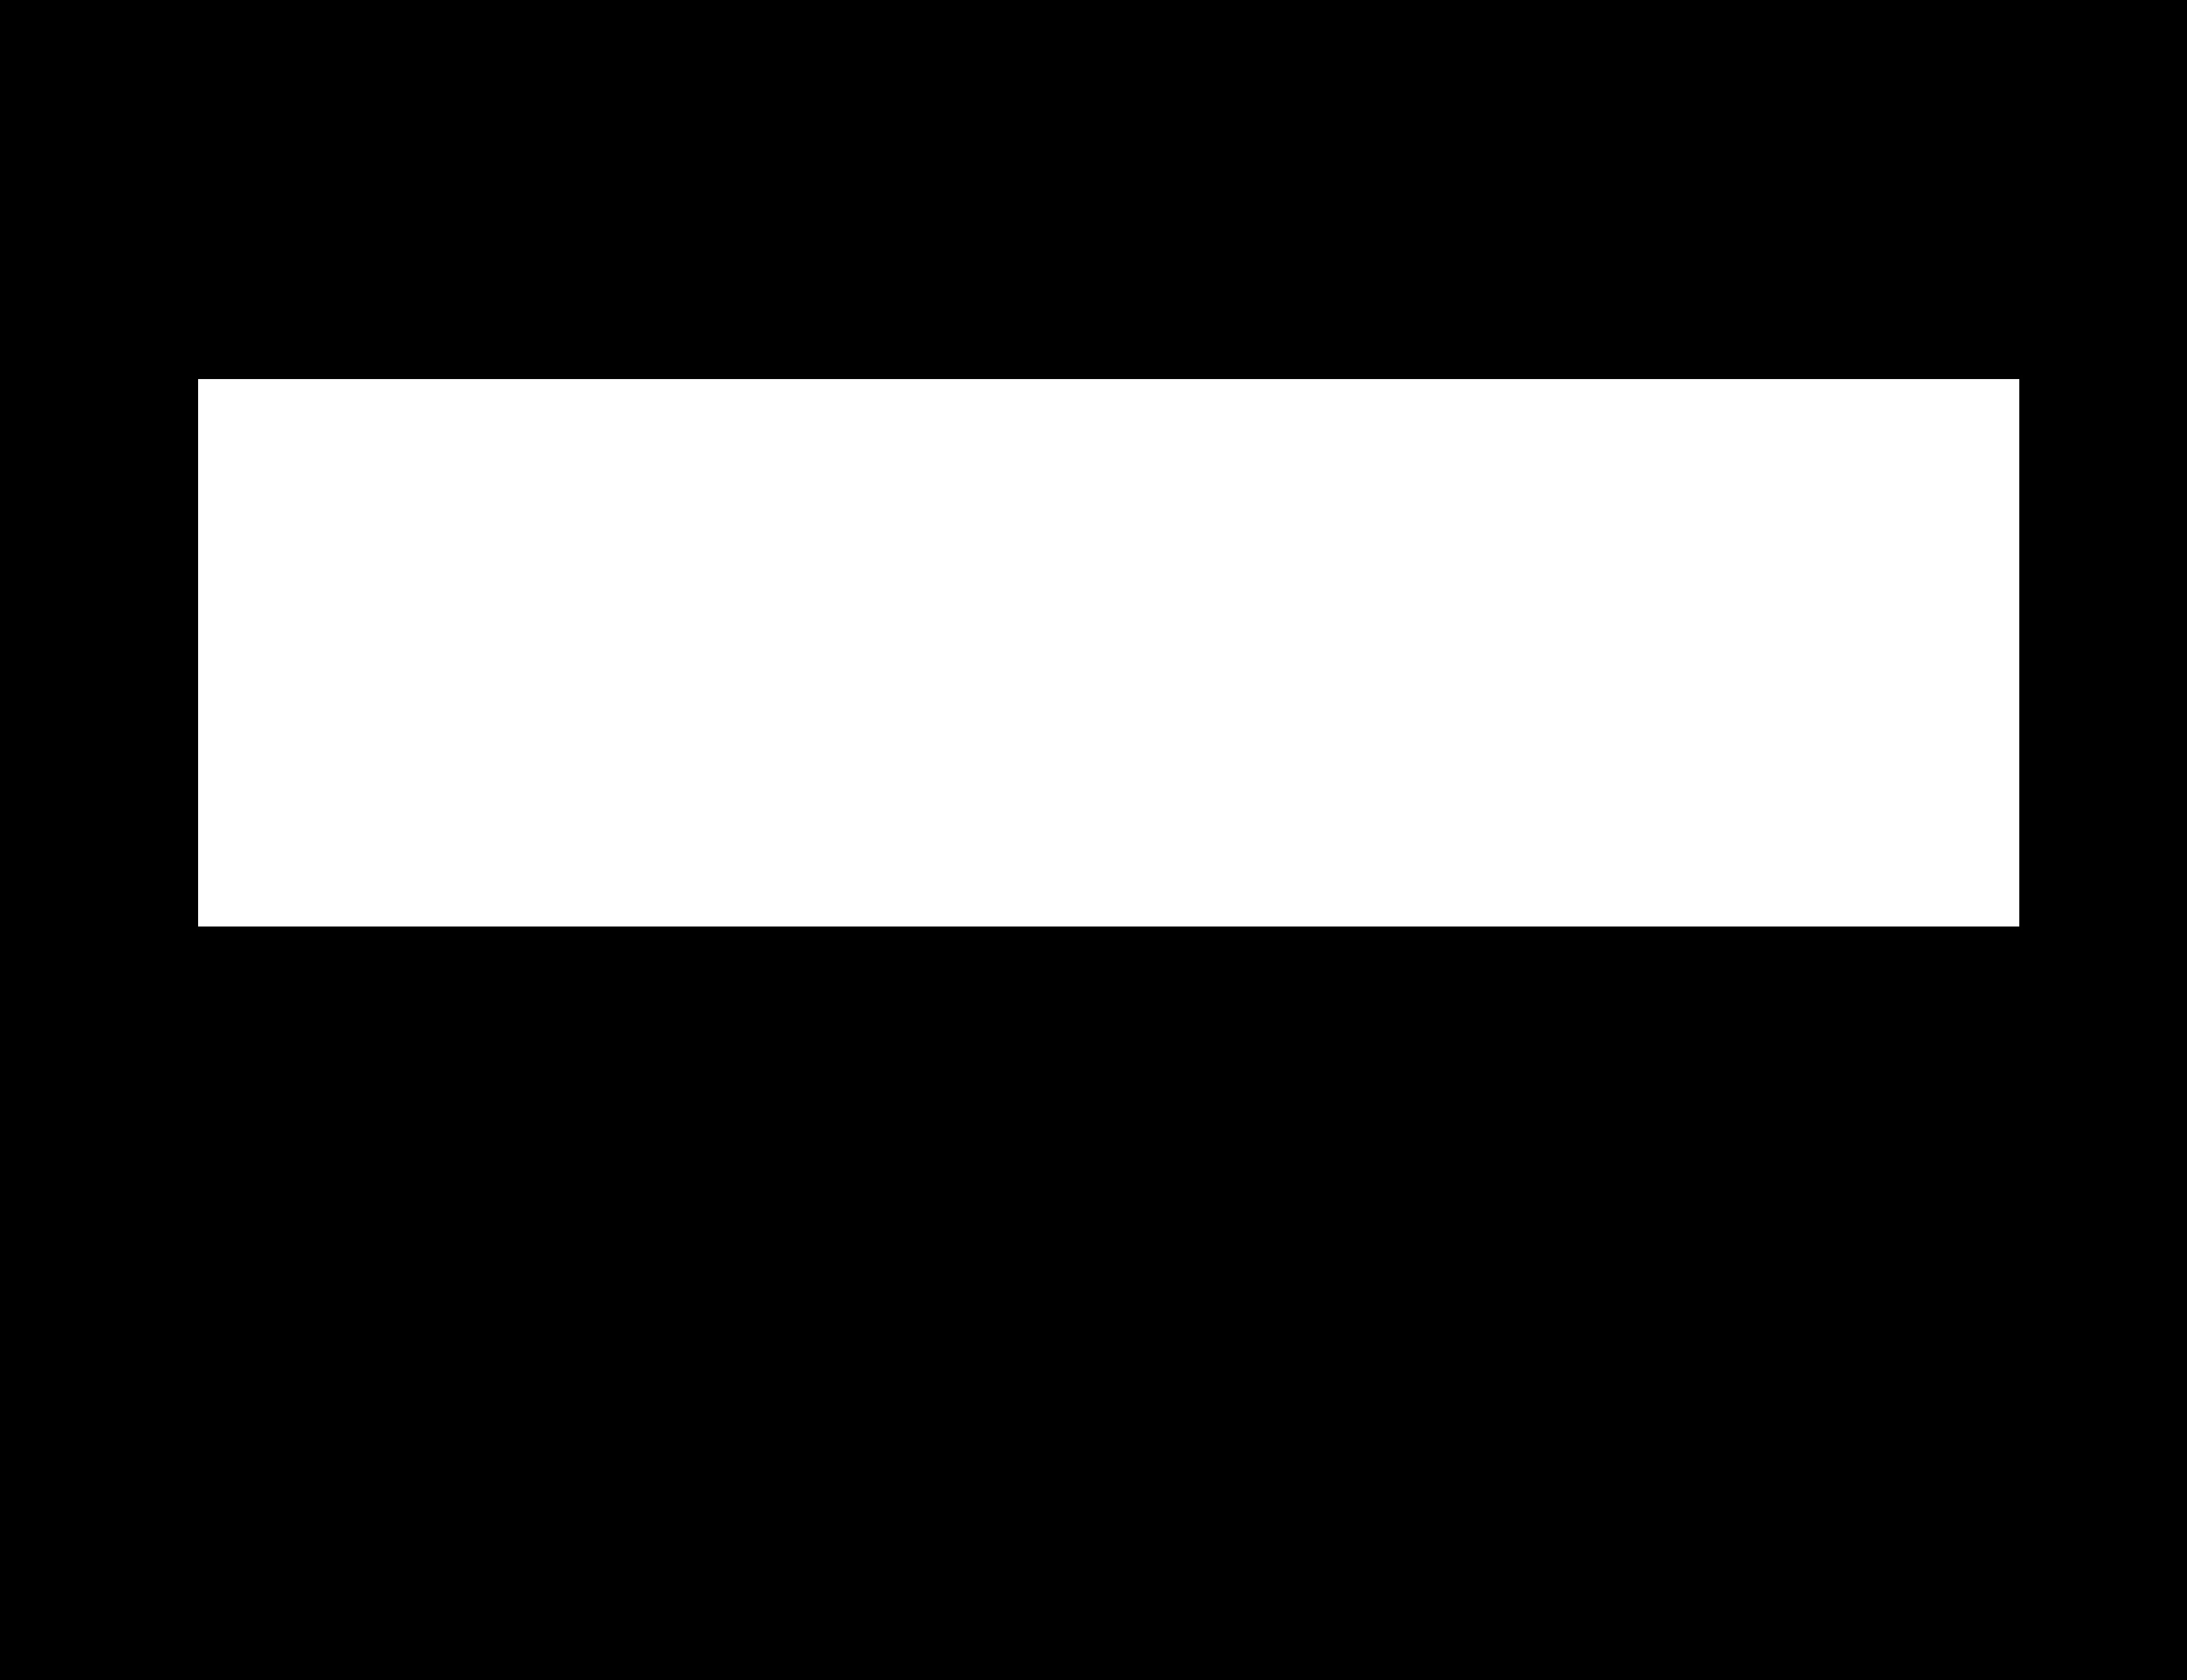table: (198, 379, 2019, 926)
